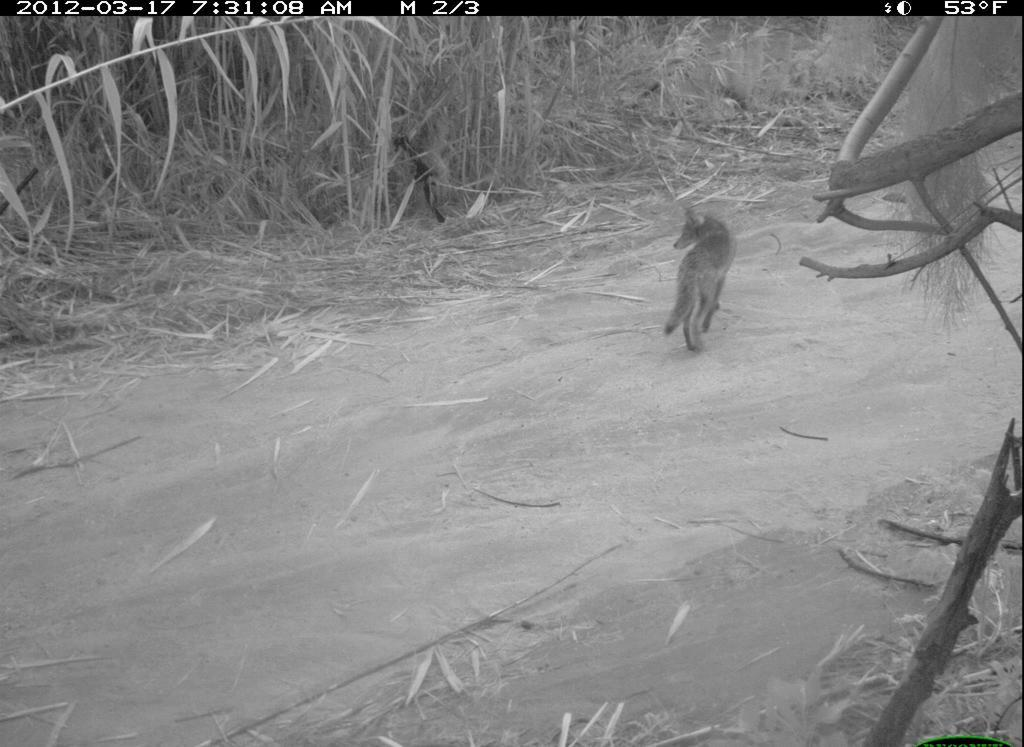coyote: (655, 199, 758, 358)
